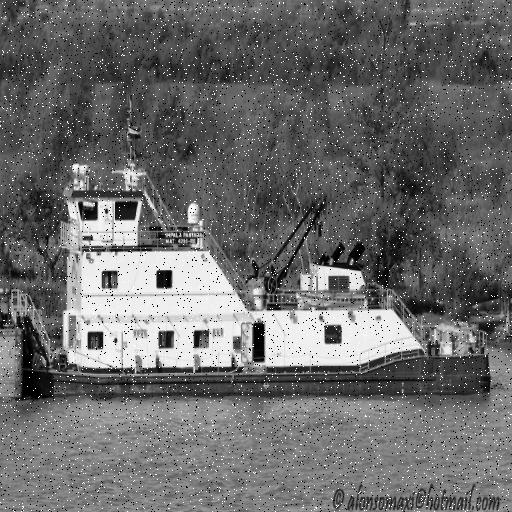tugboat: (1, 158, 497, 417)
